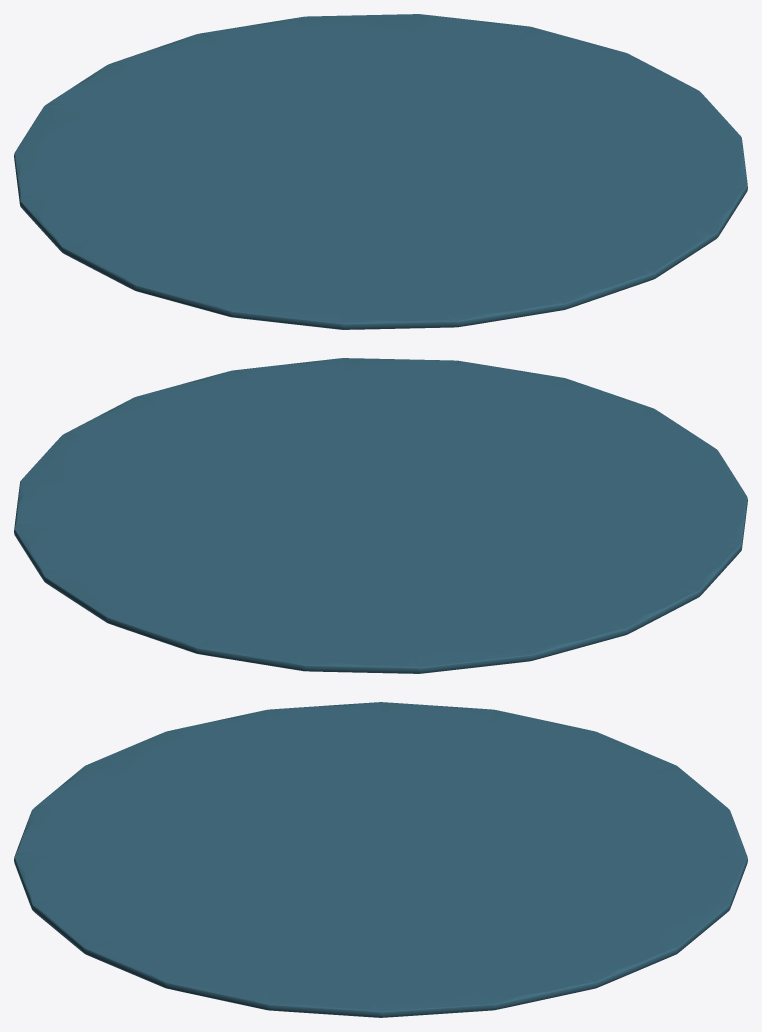
File: MOUSEPAD.fbx
3 views of the same model, one above another, from view 1: azimuth 30°, elevation 25°; view 2: azimuth 150°, elevation 25°; view 3: azimuth 270°, elevation 25° (orthographic).
Visible parts, largest first — view 1: polySurface466; view 2: polySurface466; view 3: polySurface466.
Part boxes in pixels (left/top/right/bottom): polySurface466: left=14, top=14, right=747, bottom=329; polySurface466: left=14, top=358, right=747, bottom=673; polySurface466: left=14, top=702, right=747, bottom=1017.
Size of the model in its own units: 0.7118 by 0.00803 by 0.7119.
